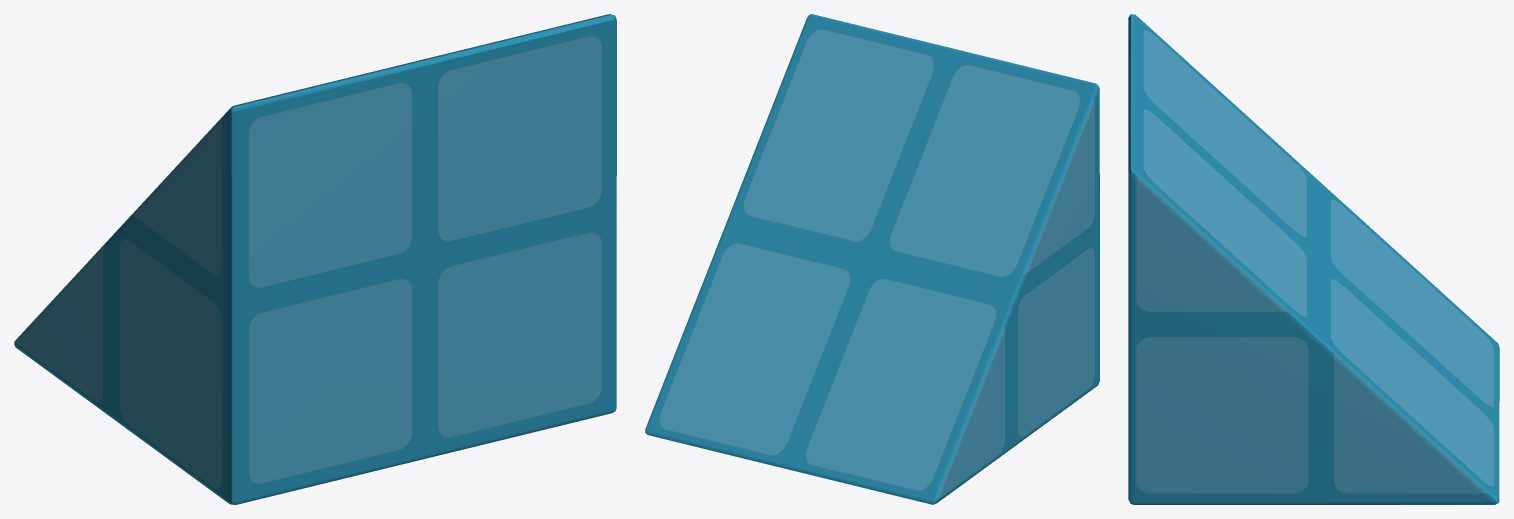
Rendered from blue_ramp.obj.
The picture shows the model from 3 angles, left to right: view 1: azimuth 30°, elevation 25°; view 2: azimuth 150°, elevation 25°; view 3: azimuth 270°, elevation 25°; orthographic projection. The views are drawn at different scales.
Parts seen in each view (by area): view 1: pCube4_Mesh.009; view 2: pCube4_Mesh.009; view 3: pCube4_Mesh.009.
Boxes of the visible parts, bbox=[...] form: pCube4_Mesh.009: bbox=[14, 14, 616, 504]; pCube4_Mesh.009: bbox=[645, 14, 1099, 504]; pCube4_Mesh.009: bbox=[1128, 14, 1499, 504].
Bounding box in the file's own units: 2 × 1.97 × 1.97.
Materials: 1 (1 with a texture image).
